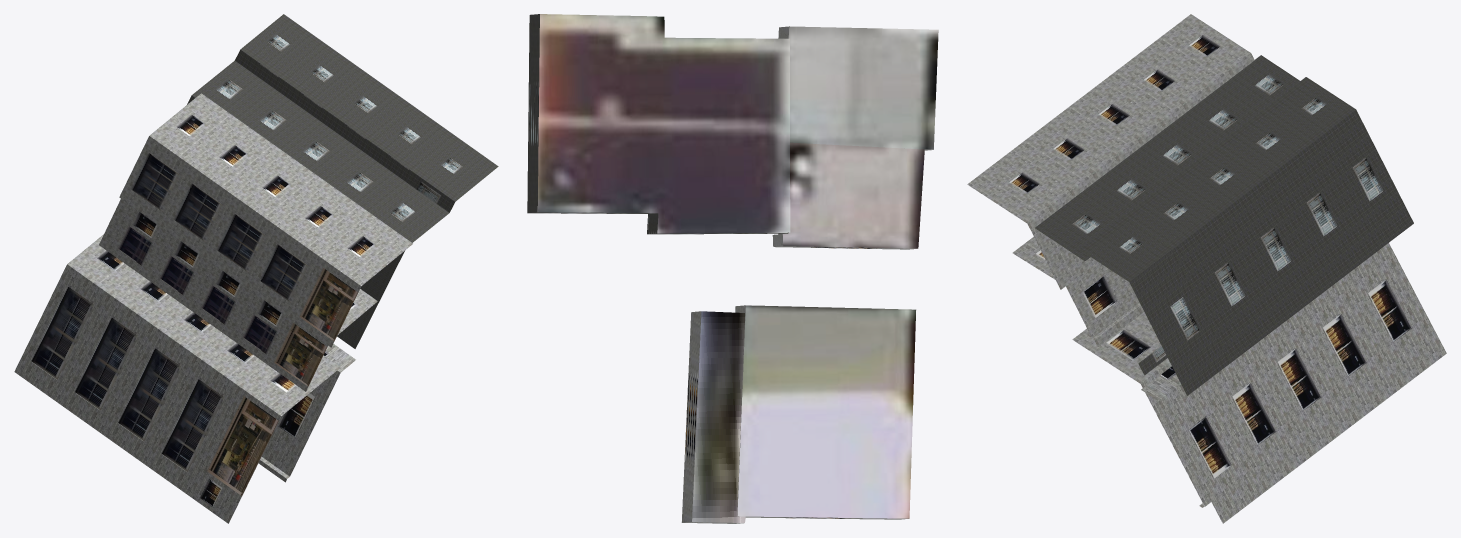
3 renders of one model, left to right at view 1: azimuth 30°, elevation 25°; view 2: azimuth 150°, elevation 25°; view 3: azimuth 270°, elevation 25°, orthographic. The views are drawn at different scales.
Size of the model in its own units: 28.28 by 28.59 by 28.41.
20 materials, 20 textured.
